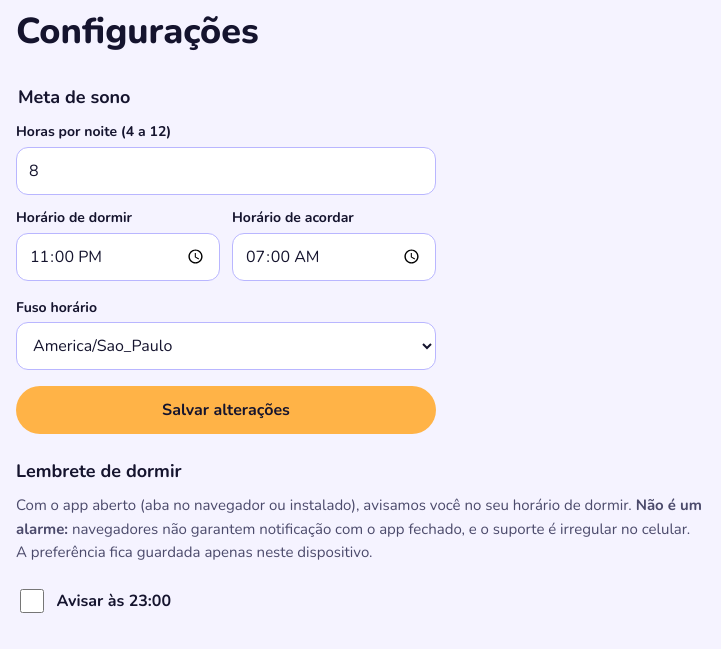
Test: tela de Configurações › salva a nova meta
Replace the text in the number field labelled "Horas por noite (4 a 12)" with "9" at (226, 171), box [16,147,436,195]
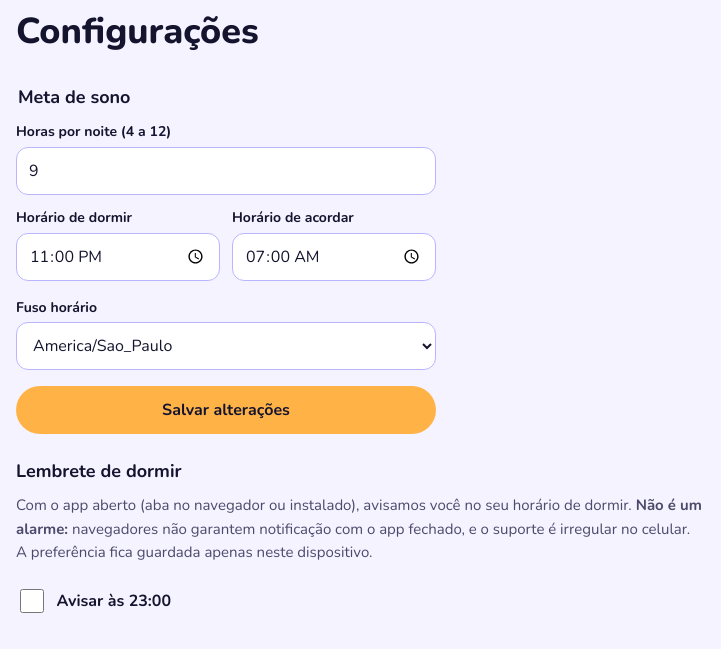
Click the button "Salvar alterações" at (226, 410), box [16,386,436,434]
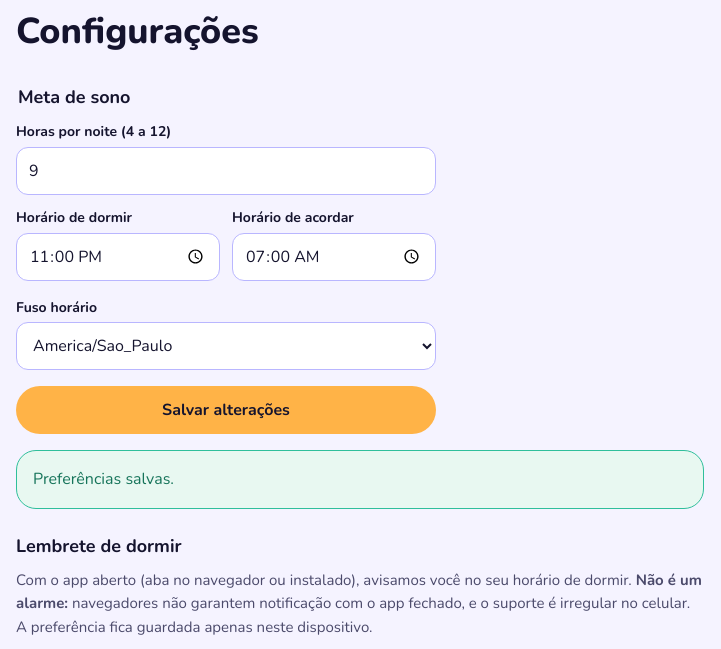
Now the message reads "Preferências salvas.", box [33,468,174,490]
